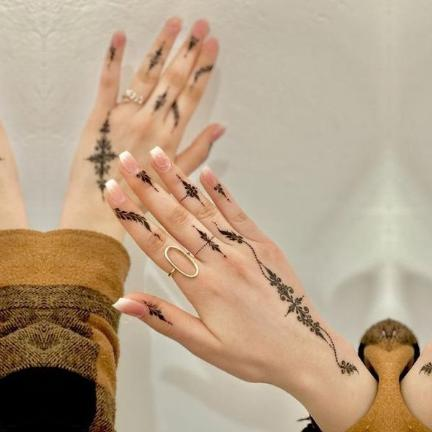Nail: (112, 298, 144, 317), (149, 146, 170, 170), (104, 179, 125, 202), (118, 150, 138, 173), (201, 168, 216, 186)
